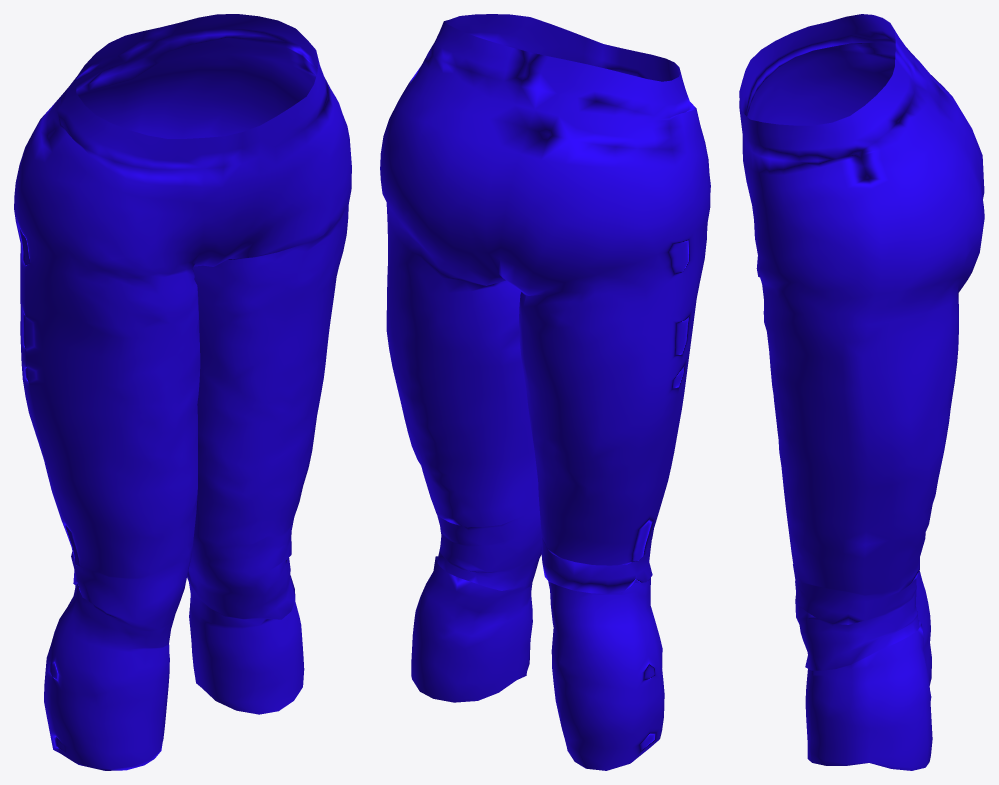
Rendered from jeans.obj.
The picture shows the model from 3 angles, left to right: view 1: azimuth 30°, elevation 25°; view 2: azimuth 150°, elevation 25°; view 3: azimuth 270°, elevation 25°; orthographic projection. The views are drawn at different scales.
Size of the model in its own units: 0.3878 by 0.8515 by 0.2665.
